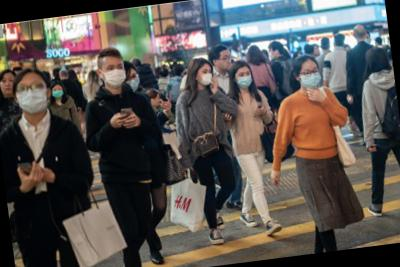with_mask: (18, 77, 49, 116), (101, 59, 126, 88), (299, 64, 323, 91), (235, 68, 255, 90), (198, 67, 215, 88), (126, 70, 142, 91), (51, 86, 64, 98), (268, 48, 279, 61), (364, 36, 373, 45)
without_mask: (216, 51, 233, 73), (150, 96, 162, 107)
